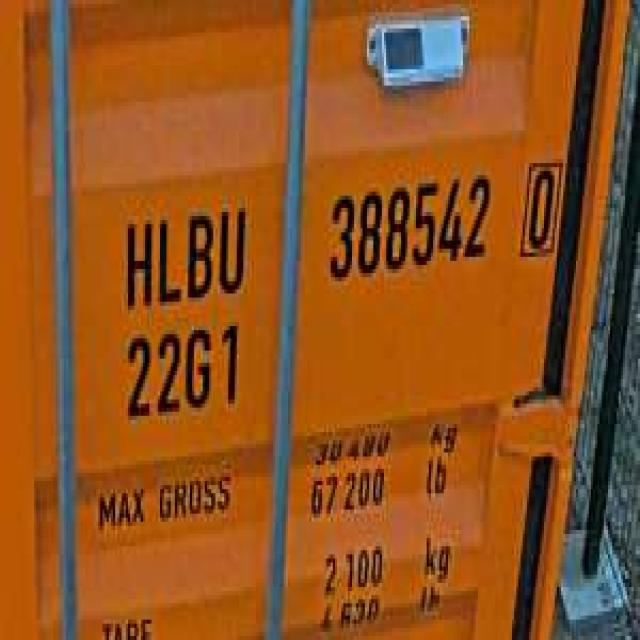dv: (516, 143, 563, 265)
owner: (117, 196, 250, 306)
serial: (322, 163, 495, 289)
size: (118, 314, 248, 424)
